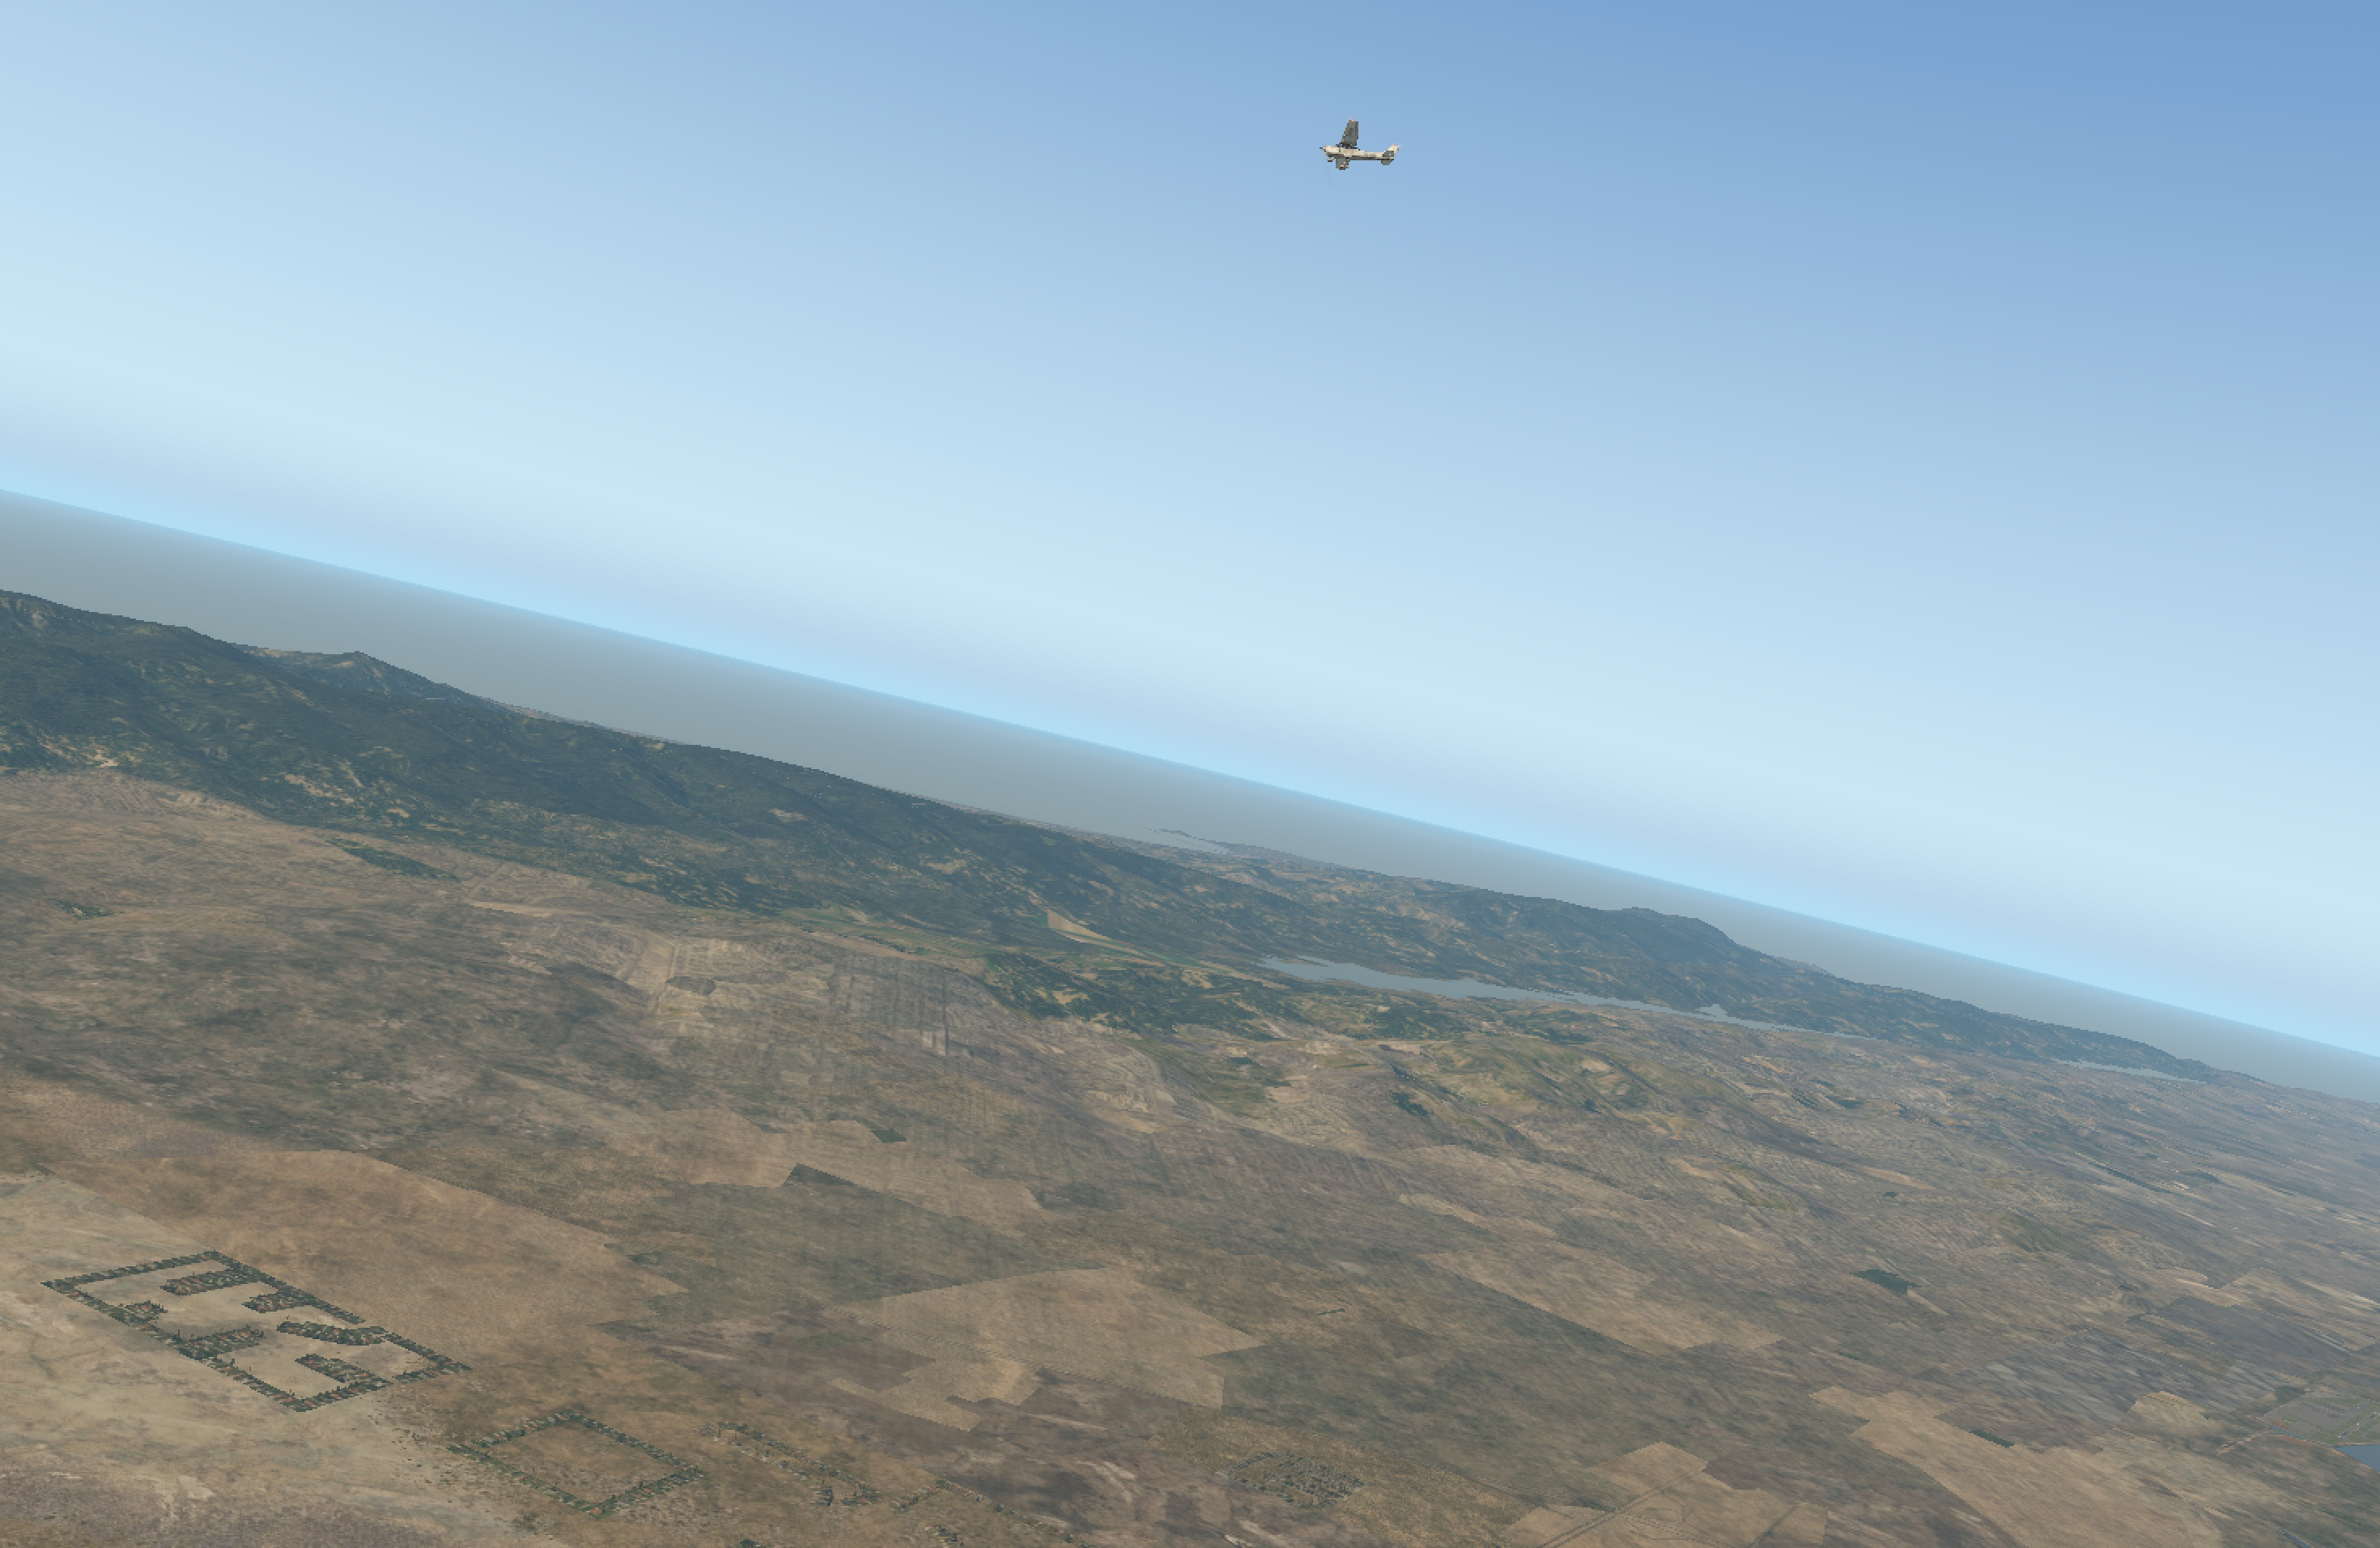aircraft: (1308, 137, 1379, 165)
